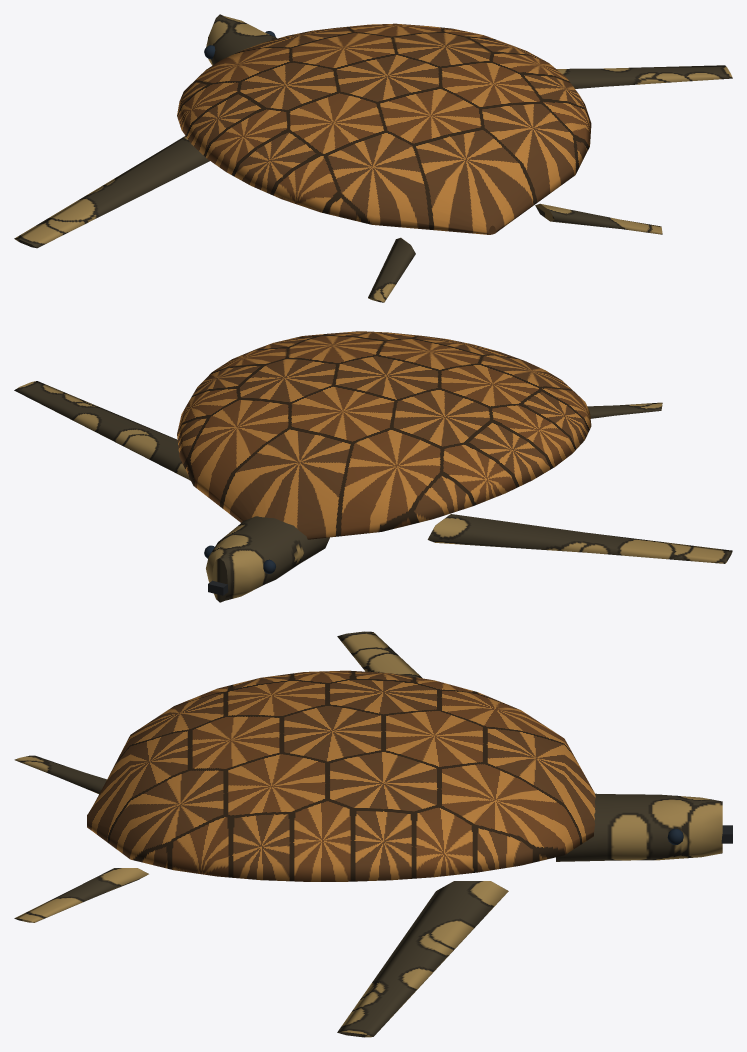
The model's file is turtle.glb.
3 views of the same model, one above another, from view 1: azimuth 30°, elevation 25°; view 2: azimuth 150°, elevation 25°; view 3: azimuth 270°, elevation 25° (orthographic). The views are drawn at different scales.
Parts seen in each view (by area): view 1: turtle_body, flipper_l, flipper_r, hind_r, hind_l; view 2: turtle_body, flipper_l, flipper_r, hind_l; view 3: turtle_body, flipper_r, hind_r, flipper_l, hind_l.
Boxes of the visible parts, <box> form: turtle_body: <box>177,14,591,234</box>; flipper_l: <box>14,136,209,248</box>; flipper_r: <box>556,65,732,88</box>; hind_r: <box>535,203,662,234</box>; hind_l: <box>368,237,415,302</box>; turtle_body: <box>177,331,591,602</box>; flipper_l: <box>427,514,732,563</box>; flipper_r: <box>14,381,190,480</box>; hind_l: <box>587,402,662,418</box>; turtle_body: <box>87,670,732,881</box>; flipper_r: <box>337,881,508,1037</box>; hind_r: <box>14,868,148,922</box>; flipper_l: <box>337,631,422,678</box>; hind_l: <box>14,755,106,793</box>.
Size of the model in its own units: 1.84 by 0.26 by 1.38.
Materials: 4 (2 with a texture image).
